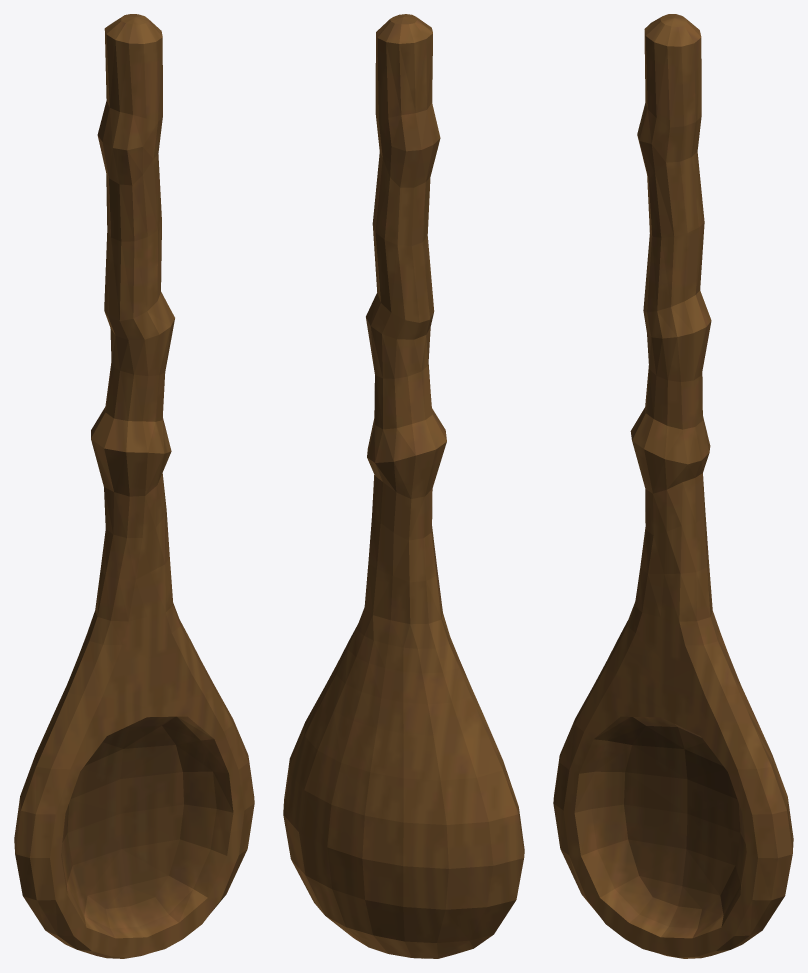
File: spoon.obj
3 renders of one model, left to right at view 1: azimuth 30°, elevation 25°; view 2: azimuth 150°, elevation 25°; view 3: azimuth 330°, elevation 25°, orthographic.
Visible parts, largest first — view 1: stick_low__MI_stick; view 2: stick_low__MI_stick; view 3: stick_low__MI_stick.
Part boxes in pixels (<box>): stick_low__MI_stick: <box>14,14,254,958</box>; stick_low__MI_stick: <box>283,14,524,958</box>; stick_low__MI_stick: <box>553,14,793,958</box>.
Size of the model in its own units: 1.94 by 7.24 by 0.8829.
1 material, 1 textured.
